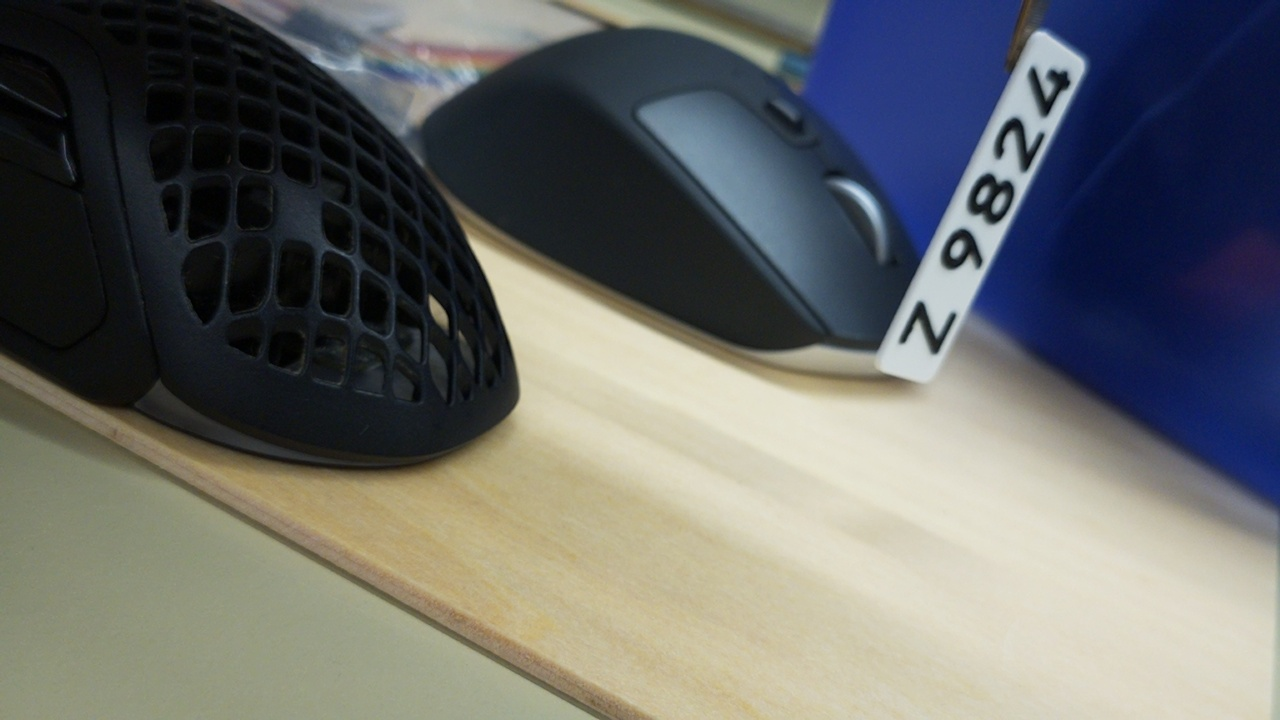license_plate: (871, 25, 1088, 387)
